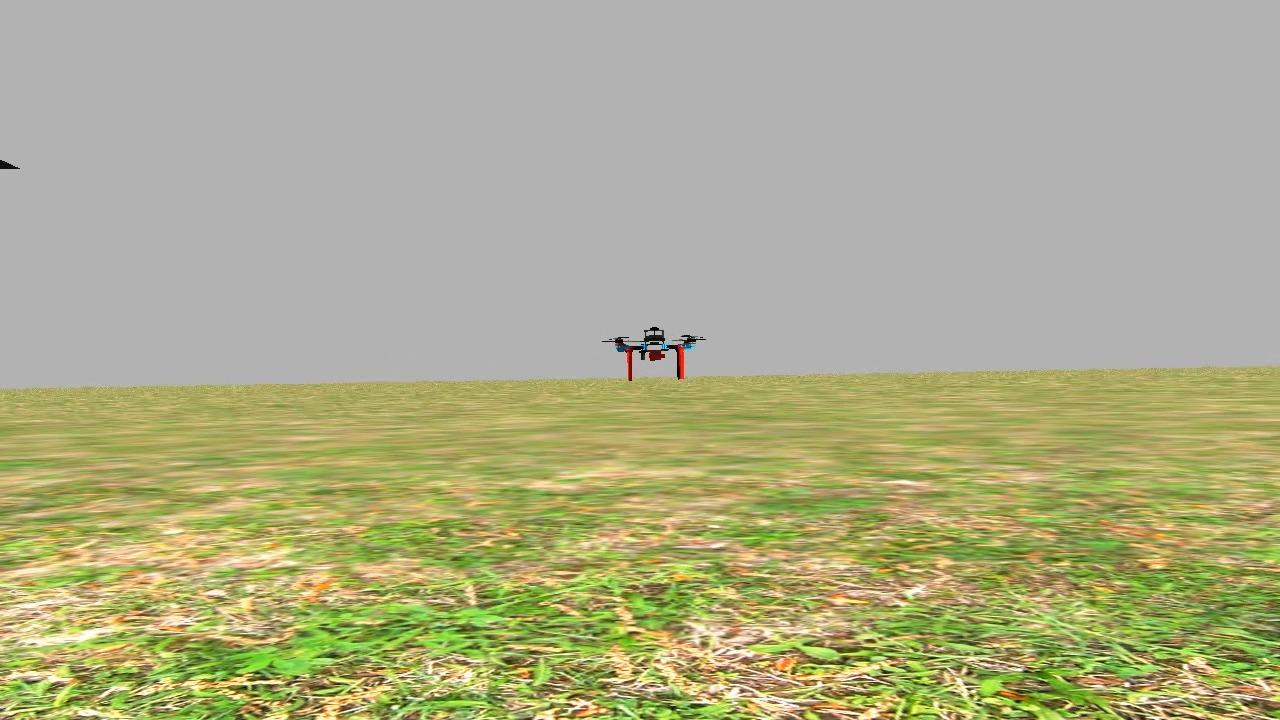UAV: (609, 316, 702, 386)
